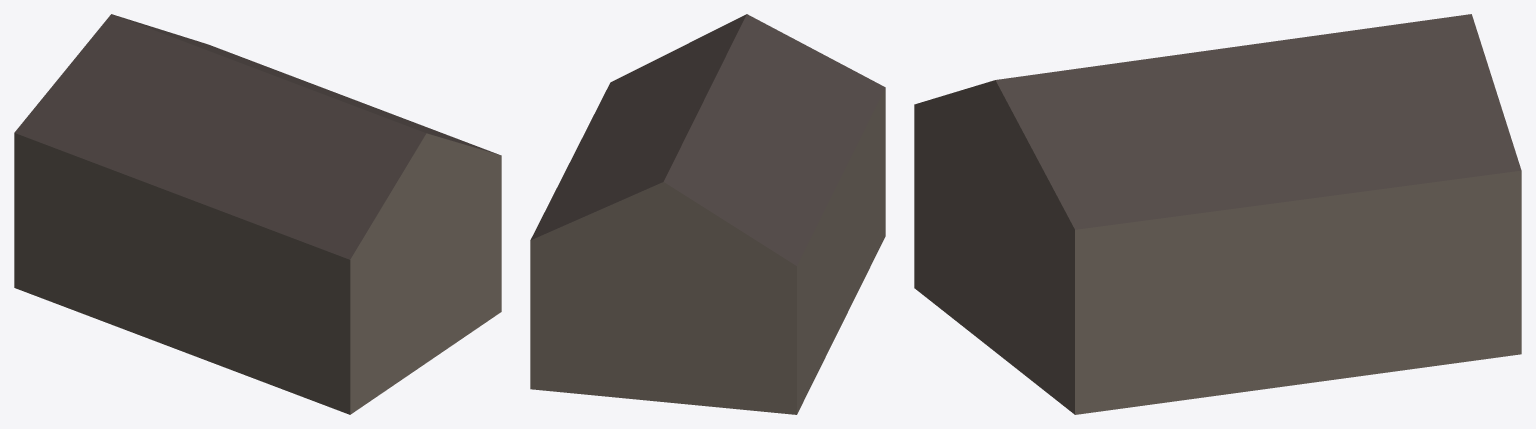
The picture shows the model from 3 angles, left to right: view 1: azimuth 30°, elevation 25°; view 2: azimuth 150°, elevation 25°; view 3: azimuth 270°, elevation 25°; orthographic projection. The views are drawn at different scales.
Parts seen in each view (by area): view 1: HP-w1196401631; view 2: HP-w1196401631; view 3: HP-w1196401631.
Boxes of the visible parts, x1=… form: HP-w1196401631: x1=14, y1=14, x2=501, y2=414; HP-w1196401631: x1=530, y1=14, x2=885, y2=414; HP-w1196401631: x1=914, y1=14, x2=1521, y2=414.
Size of the model in its own units: 13.81 by 8.89 by 17.97.
